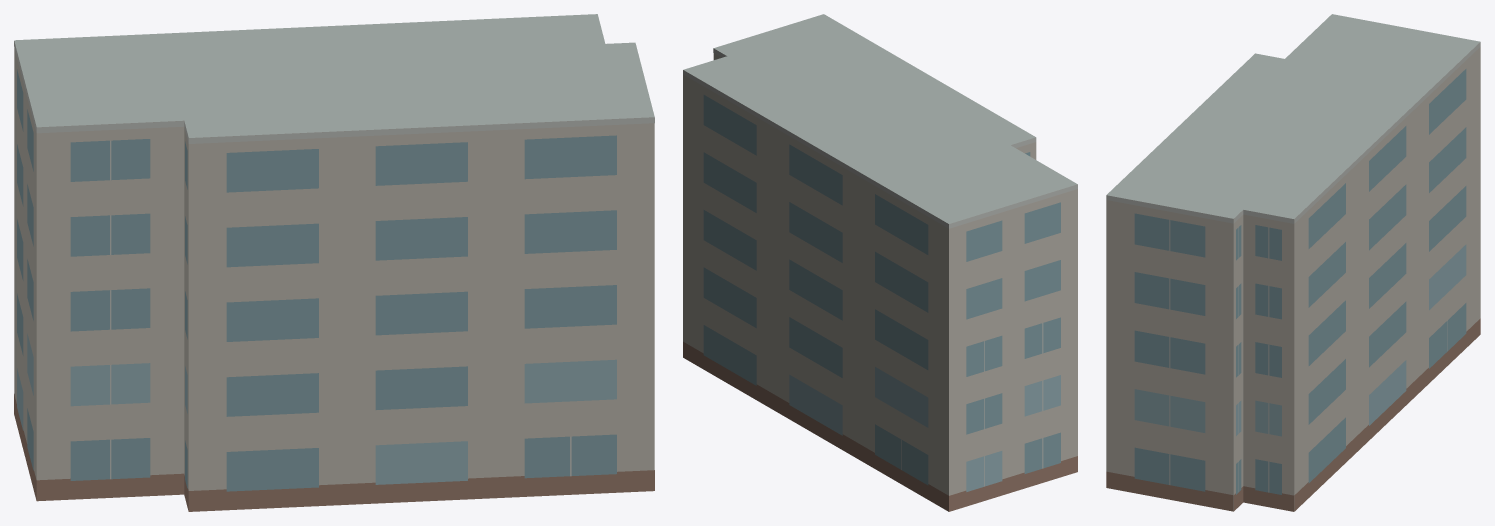
The model's file is survey-upis-32957408.glb.
3 renders of one model, left to right at view 1: azimuth 30°, elevation 25°; view 2: azimuth 150°, elevation 25°; view 3: azimuth 270°, elevation 25°, orthographic. The views are drawn at different scales.
Visible parts, largest first — view 1: survey-upis-32957408.tmp; view 2: survey-upis-32957408.tmp; view 3: survey-upis-32957408.tmp.
Boxes of the visible parts, x1,y1,x2,y2 form: survey-upis-32957408.tmp: [14, 14, 654, 511]; survey-upis-32957408.tmp: [683, 14, 1077, 511]; survey-upis-32957408.tmp: [1106, 14, 1480, 511].
Bounding box in the file's own units: 22.71 × 15.1 × 17.51.
